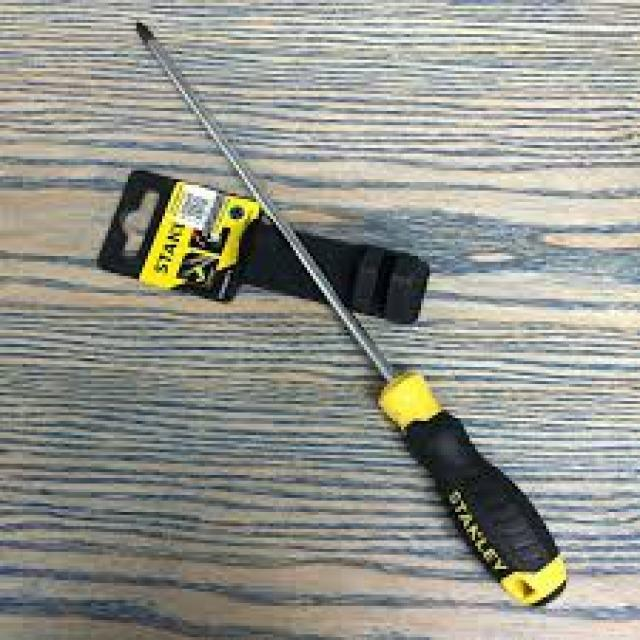screwdriver: (131, 18, 569, 610)
